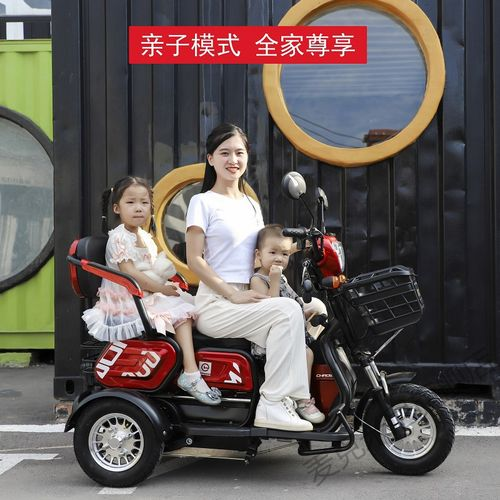driver: (186, 123, 257, 432)
overloading: (59, 123, 457, 484)
passenger: (84, 168, 205, 403), (249, 221, 361, 329)
